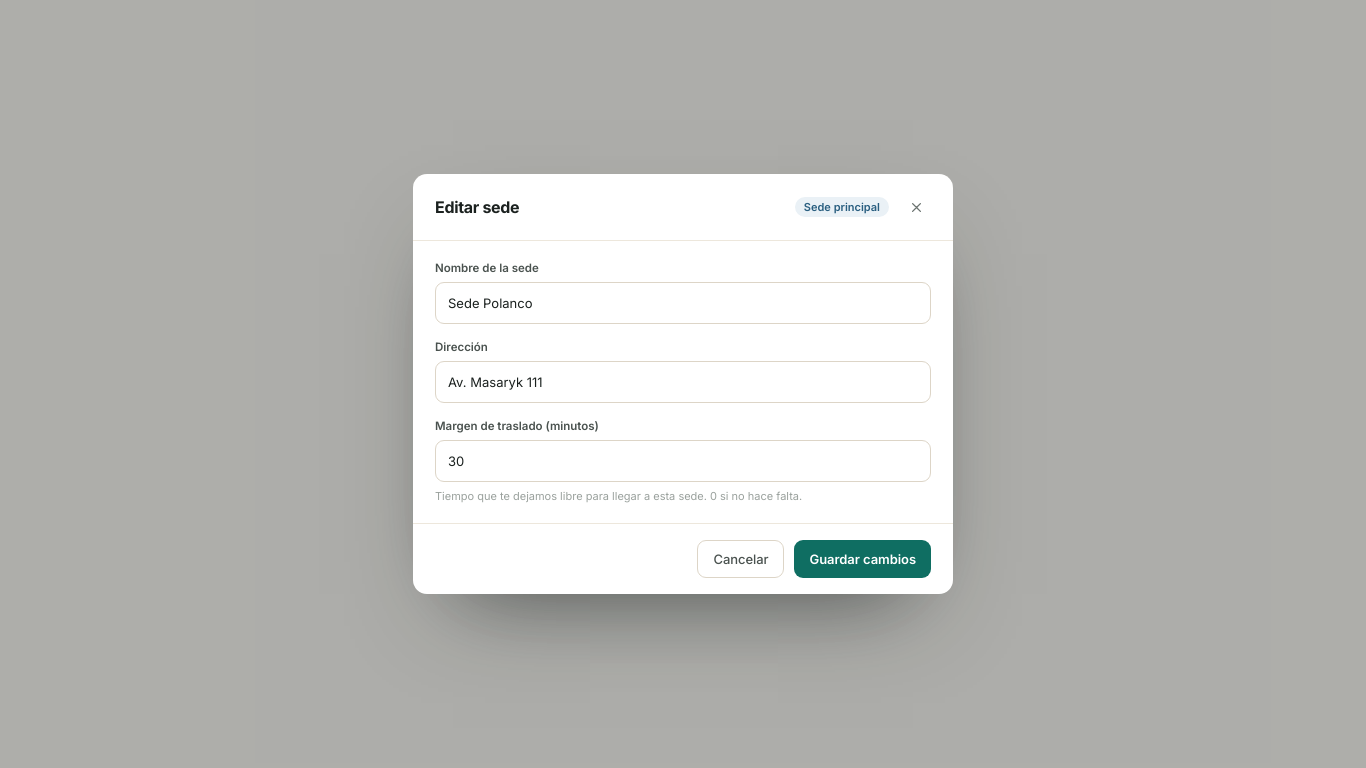
Test: LocationFormModal failures › shows the server message and stays open
The width and height of the screenshot is (1366, 768).
Click the button "Guardar cambios".
click(863, 559)  # box [794,540,931,578]
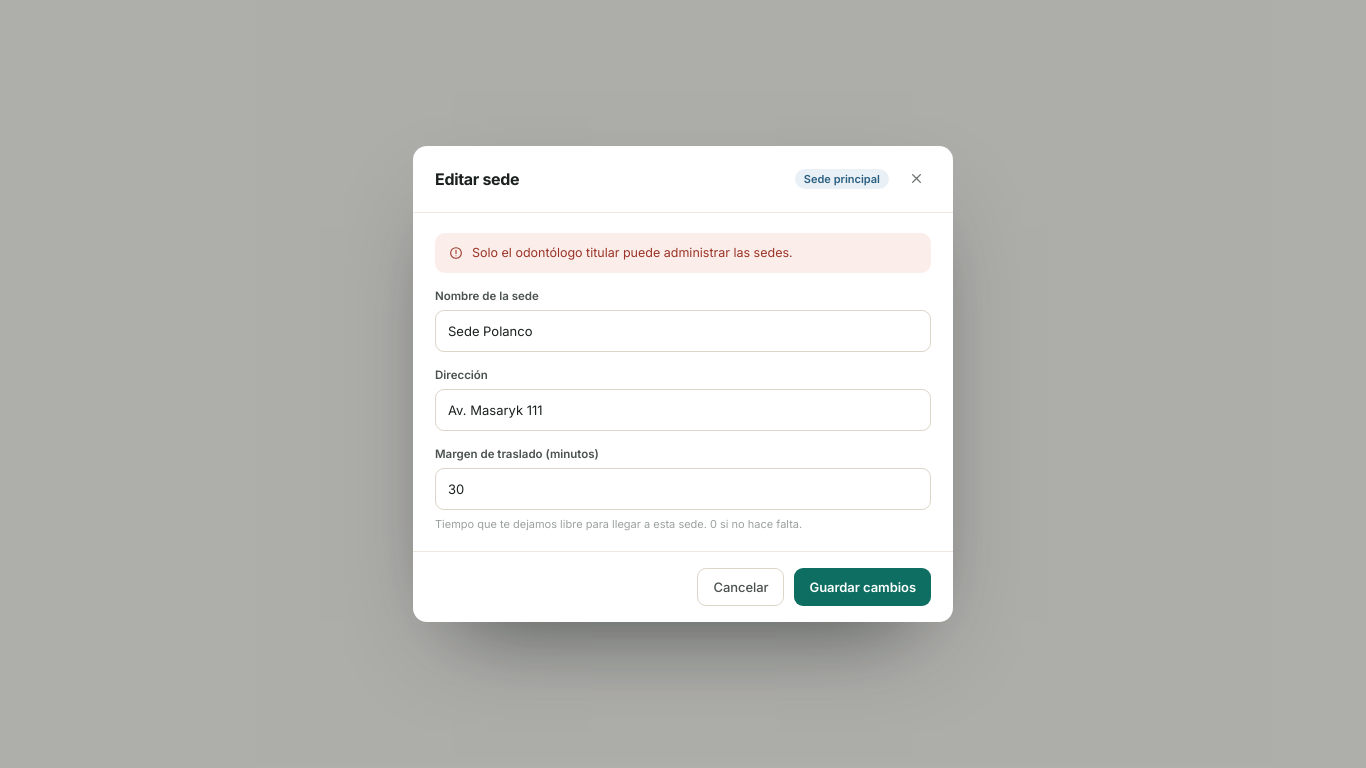
Expected: the text "Solo el odontólogo titular puede administrar las sedes." is shown, [472,244,793,262]
